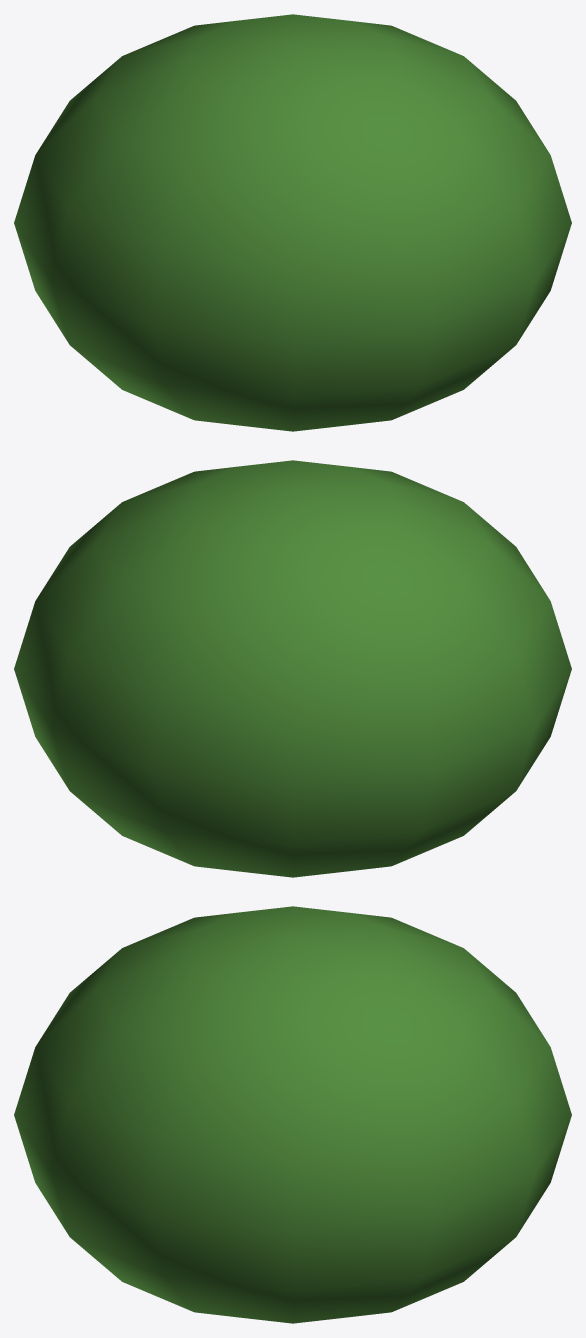
Rendered from bush.glb.
3 views of the same model, one above another, from view 1: azimuth 30°, elevation 25°; view 2: azimuth 150°, elevation 25°; view 3: azimuth 270°, elevation 25° (orthographic).
Bounding box in the file's own units: 1.6 × 1.12 × 1.6.
